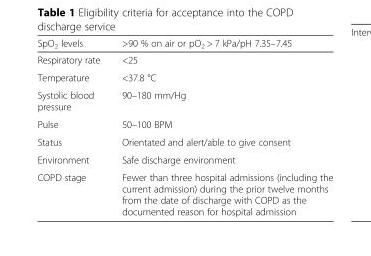table: (36, 37, 332, 216)
table column: (110, 37, 332, 216), (36, 37, 110, 216)
table column header: (36, 37, 332, 51)
table row: (36, 168, 332, 216), (36, 85, 332, 115), (36, 132, 332, 150), (36, 150, 332, 168), (36, 51, 332, 68), (36, 68, 332, 85), (36, 115, 332, 132), (36, 37, 332, 51)
